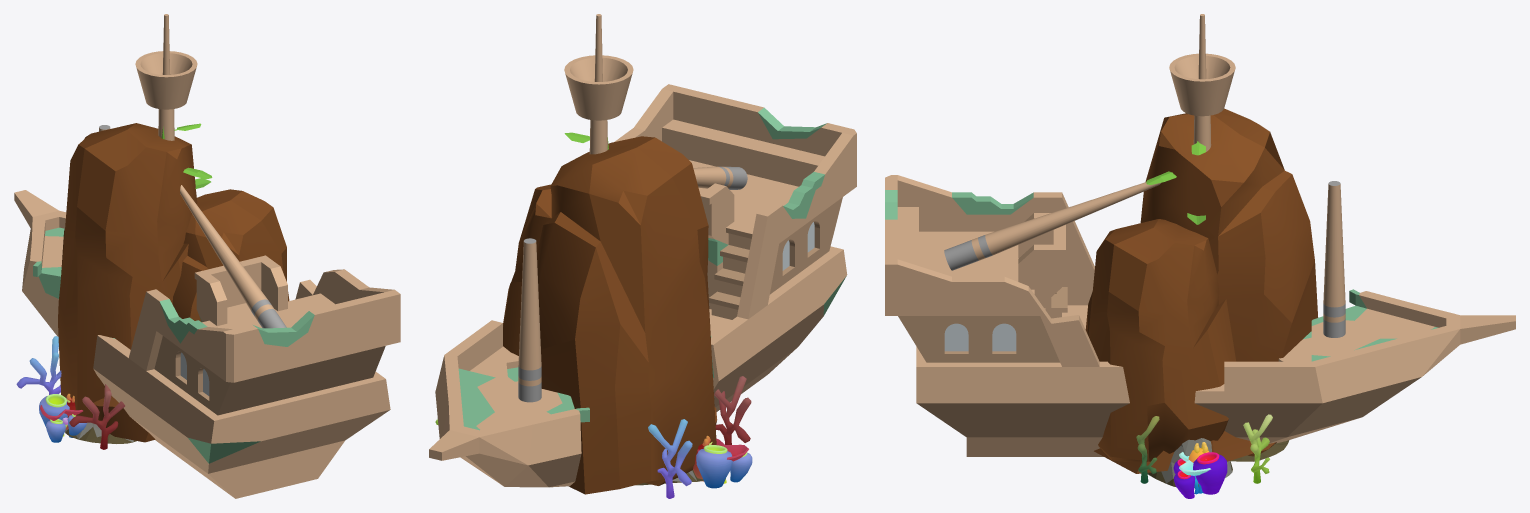
Rendered from reef.glb.
3 views of the same model, side by side, from view 1: azimuth 30°, elevation 25°; view 2: azimuth 150°, elevation 25°; view 3: azimuth 270°, elevation 25° (orthographic). The views are drawn at different scales.
Visible parts, largest first — view 1: wreck, rock-pillar, coral-3, coral-5, rock-flat, rock-spires, seaweed; view 2: wreck, rock-pillar, coral-3, coral-5; view 3: wreck, rock-pillar, coral-5, rock-flat, coral-3, rock-spires.
Boxes of the visible parts, x1,y1,x2,y2 form: wreck: (14,14,400,498); rock-pillar: (58,123,289,420); coral-3: (16,336,124,449); coral-5: (39,394,86,442); rock-flat: (93,396,155,442); rock-spires: (65,422,136,443); seaweed: (161,123,212,188); wreck: (429,14,856,487); rock-pillar: (503,136,716,494); coral-3: (435,376,751,498); coral-5: (696,445,752,488); wreck: (885,14,1515,456); rock-pillar: (1085,108,1318,461); coral-5: (1173,452,1227,498); rock-flat: (1094,431,1276,473); coral-3: (1136,414,1272,483); rock-spires: (1147,438,1289,487).
Bounding box in the file's own units: 5.5 × 8.09 × 11.
19 materials, 6 textured.
